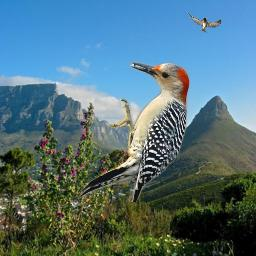Swallow: (187, 12, 222, 33)
Woodpecker: (74, 56, 205, 202)
